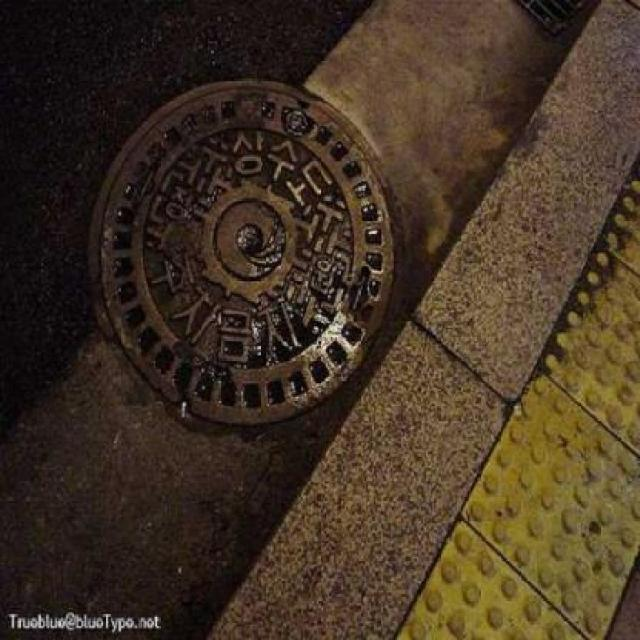Manhole: (88, 77, 400, 434), (509, 0, 584, 35)
